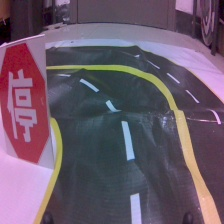stop: (1, 33, 58, 170)
